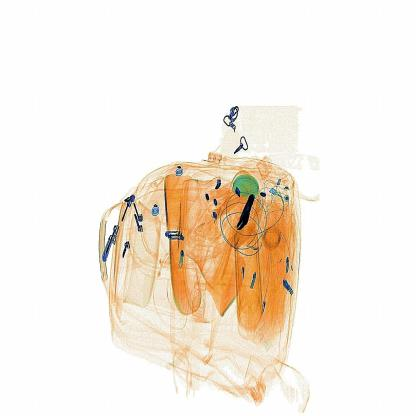knife: (234, 190, 261, 240)
